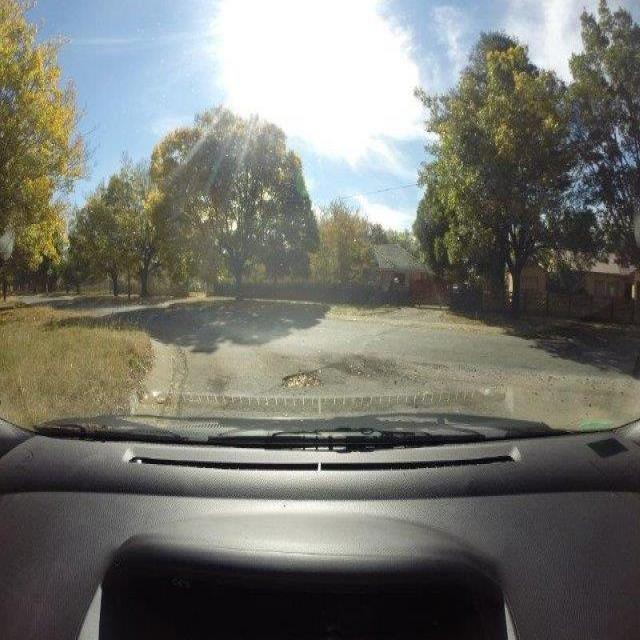jalan retak: (156, 332, 192, 419), (202, 369, 253, 411), (381, 353, 428, 394)
lubang: (275, 362, 328, 389), (328, 352, 385, 377), (414, 354, 452, 374)
